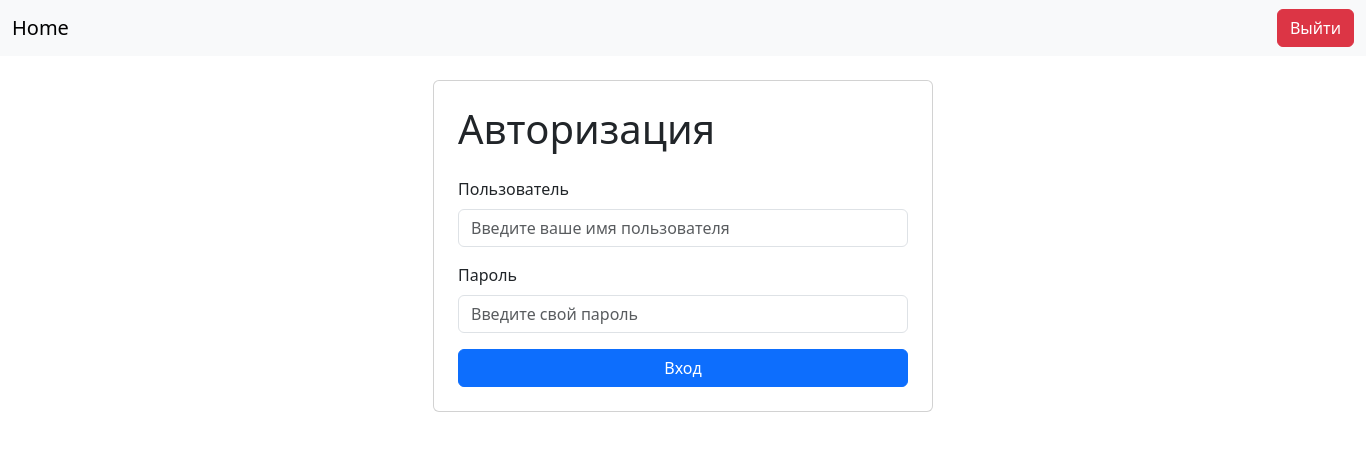
it: LoginView › должен отображать сообщение об ошибке при коротком пароле
This screenshot has width=1366, height=454.
In the field with id "username": [683, 228] box [458,209,908,247], type "validuser"
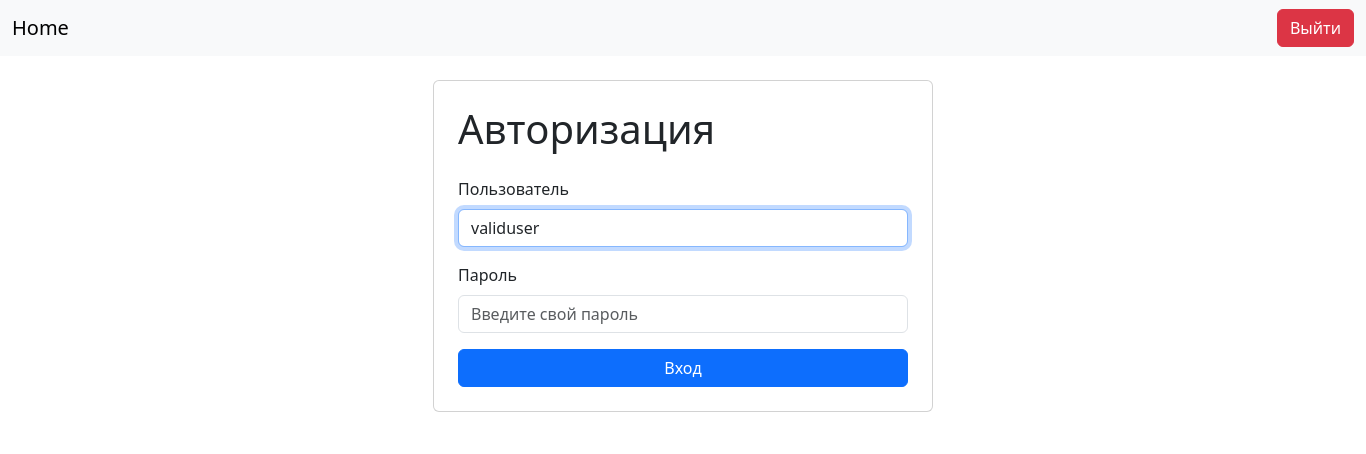
In the password field labelled "Пароль": [683, 314] box [458,295,908,333], type "123"
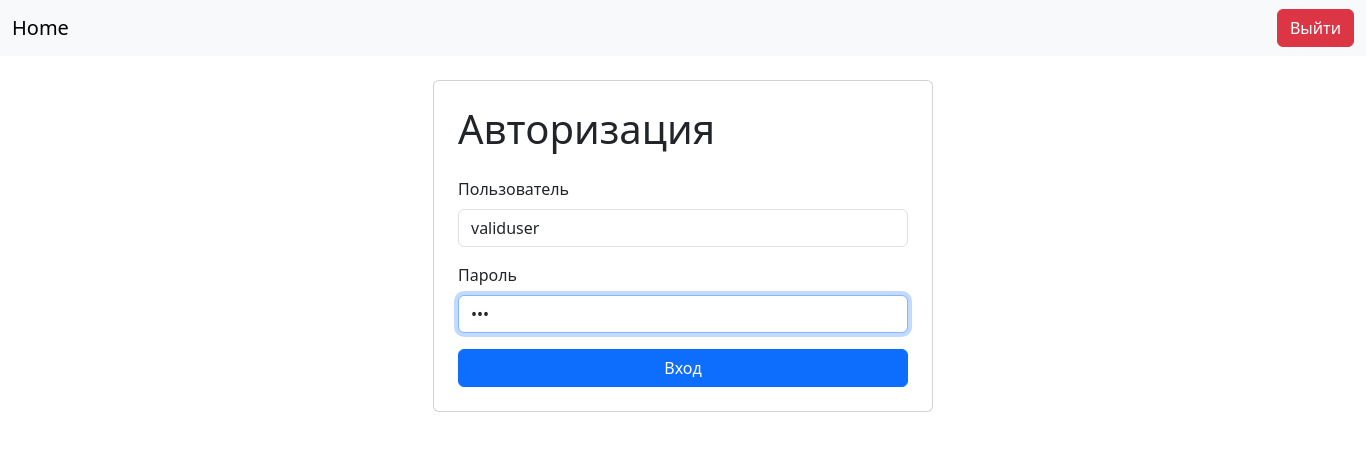
Click the button "Вход": [683, 368] box [458,349,908,387]
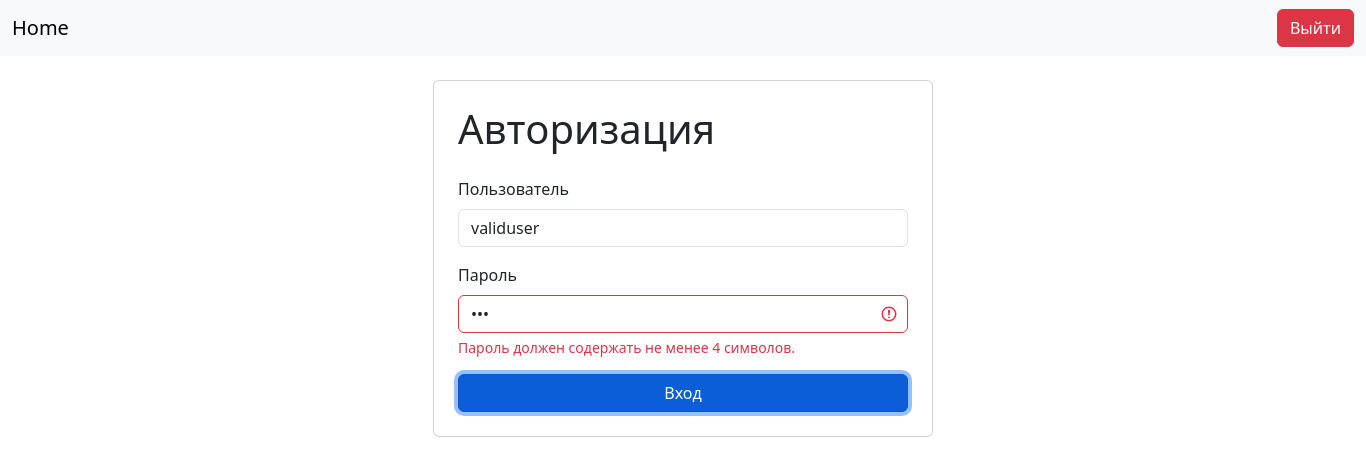
expect the element with class "invalid-feedback" reads "Пароль должен содержать не менее 4 символов.": met, box [458,338,795,357]
